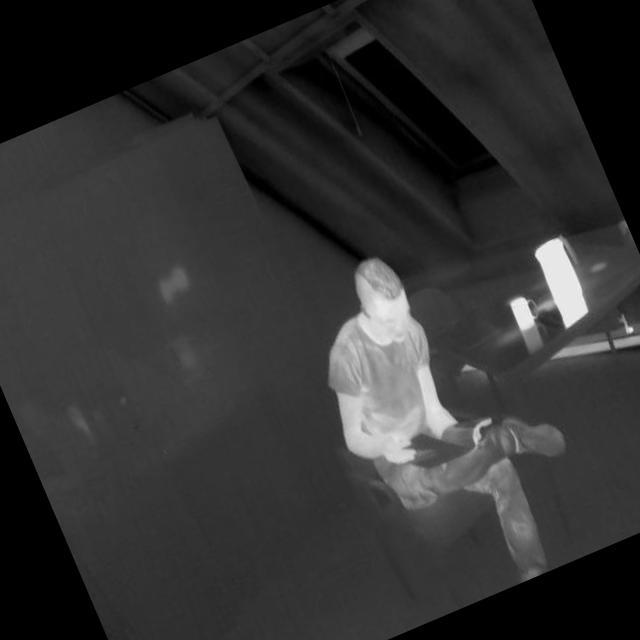person: (274, 203, 616, 626)
